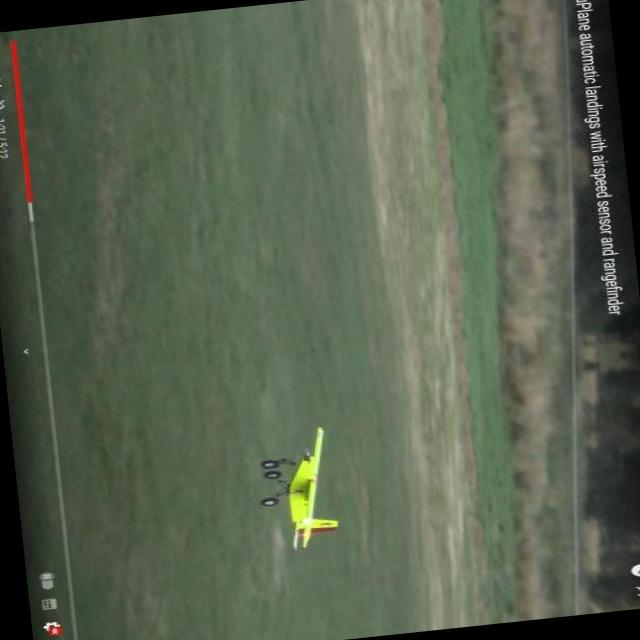UAV: (227, 428, 364, 574)
